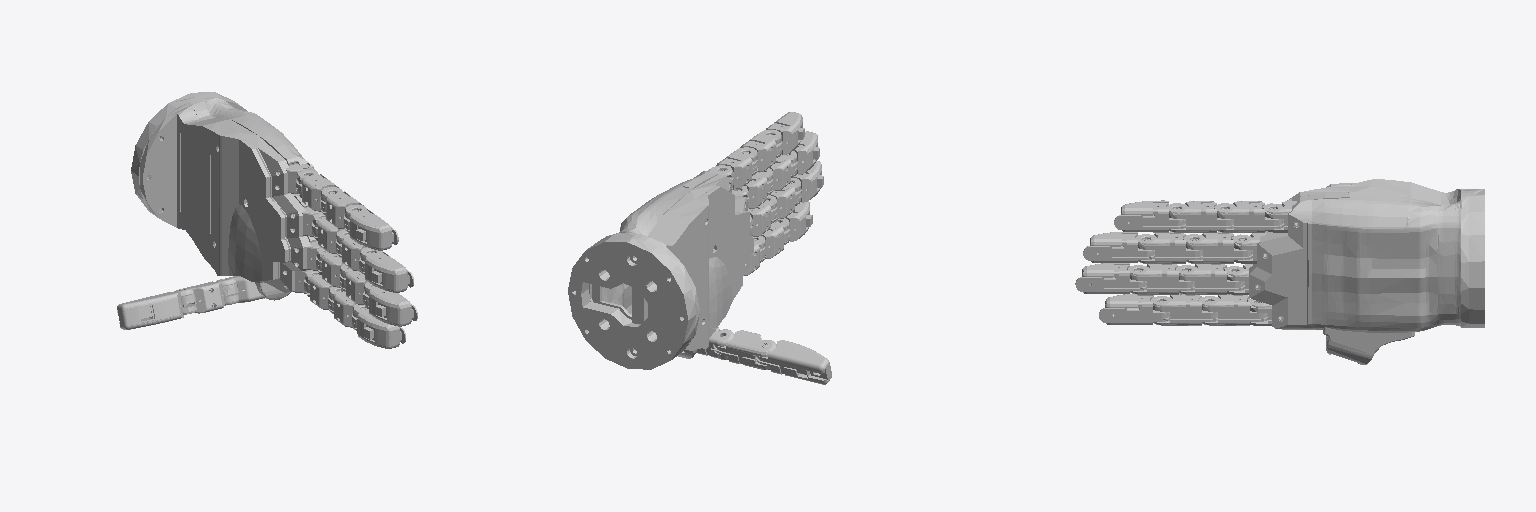
File: right_hand_fixed.obj
3 views of the same model, side by side, from view 1: azimuth 30°, elevation 25°; view 2: azimuth 150°, elevation 25°; view 3: azimuth 270°, elevation 25° (orthographic).
Bounding box in the file's own units: 0.146 × 0.1187 × 0.2641.